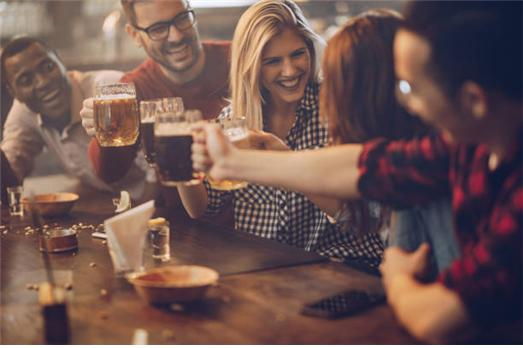alcohol: (155, 109, 206, 187), (207, 116, 251, 191), (139, 97, 186, 167), (92, 82, 140, 147)
